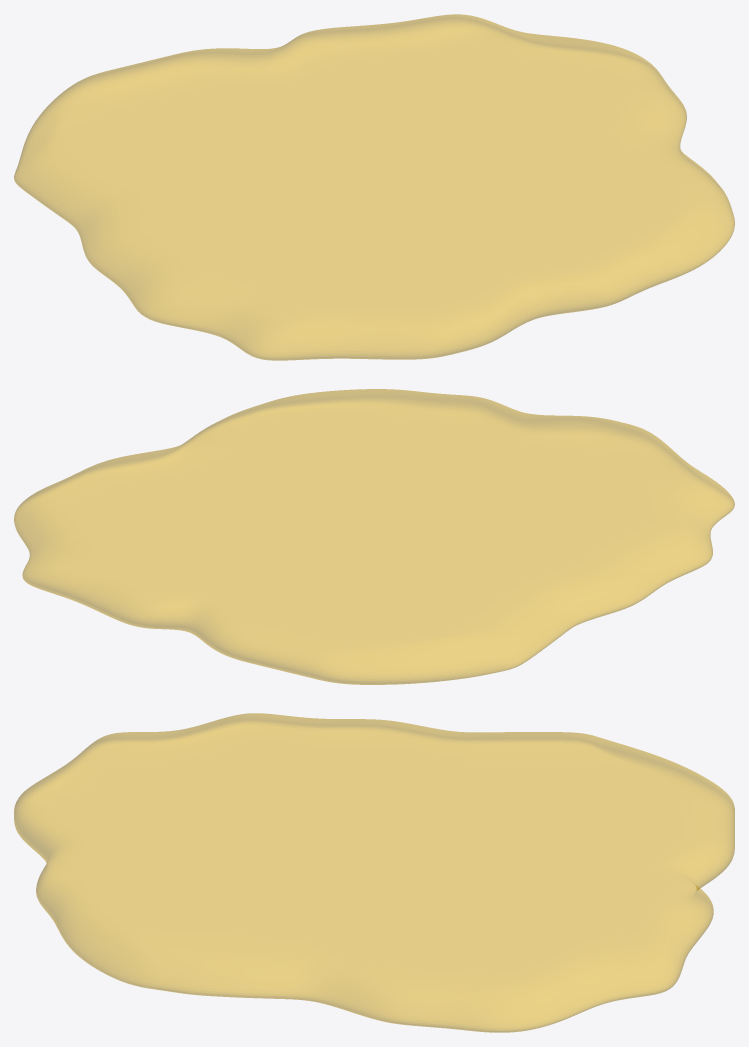
File: DogPee.fbx
The picture shows the model from 3 angles, top to bottom: view 1: azimuth 30°, elevation 25°; view 2: azimuth 150°, elevation 25°; view 3: azimuth 270°, elevation 25°; orthographic projection. The views are drawn at different scales.
Parts seen in each view (by area): view 1: DogPee; view 2: DogPee; view 3: DogPee.
Part boxes in pixels (x1=…): DogPee: x1=14, y1=14, x2=734, y2=360; DogPee: x1=14, y1=389, x2=734, y2=684; DogPee: x1=14, y1=713, x2=734, y2=1032.
Size of the model in its own units: 89.46 by 88.38 by 4.58.
